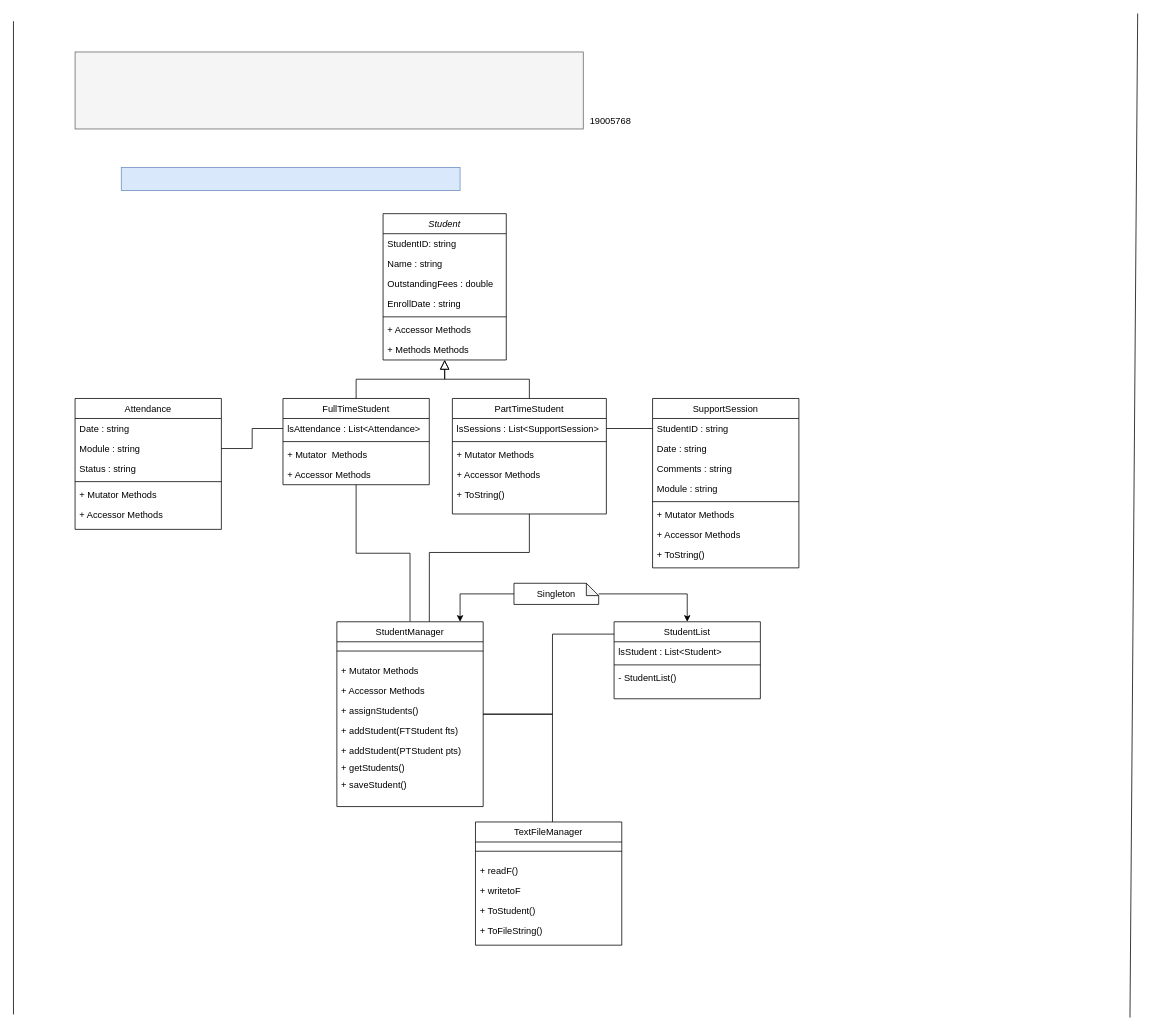
This 1152x1032 diagram has some shape labels left out. The shapes that lost their labels are listed below. From the top down, each one's centre as x and y in pixels, then its label:
point 328,90: UML Design Class Diagram PROG67311 V2 19 March 2021
point 290,179: Student Management System
